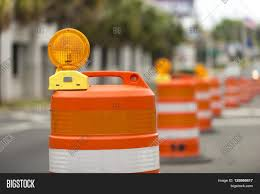barrel: (48, 72, 156, 172), (158, 81, 195, 155), (195, 80, 208, 129)
